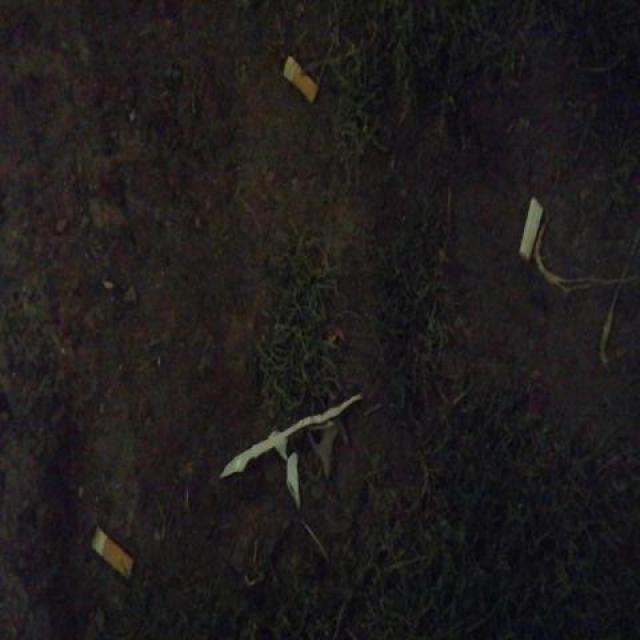non-organic waste: (87, 520, 137, 584), (280, 51, 320, 108), (517, 192, 546, 264)
